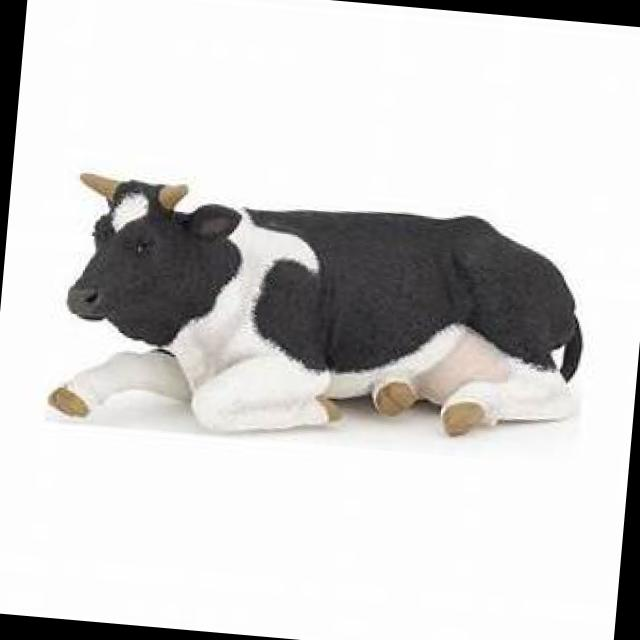animal: (44, 167, 595, 464)
